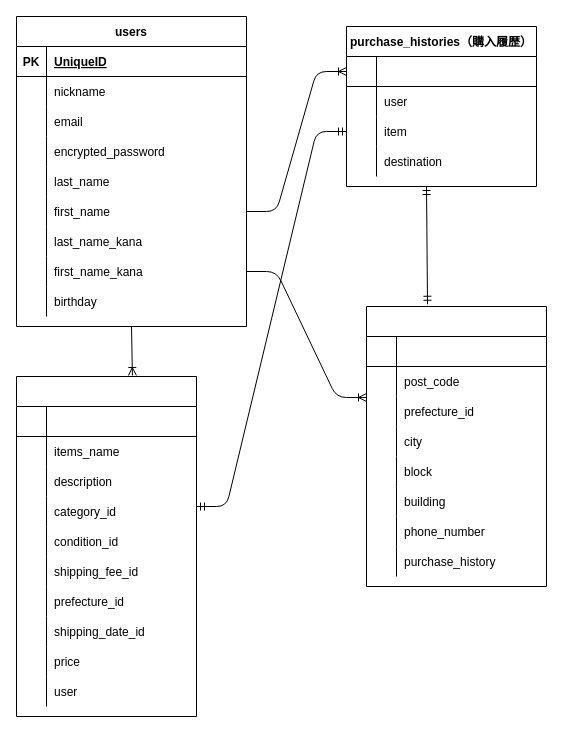
Image size: 563x733. Some labels were removed from this diagram. Each missing label, with the box of its shape:
destination（配送先）: (366, 306, 546, 586)
items（商品）: (16, 376, 196, 716)
